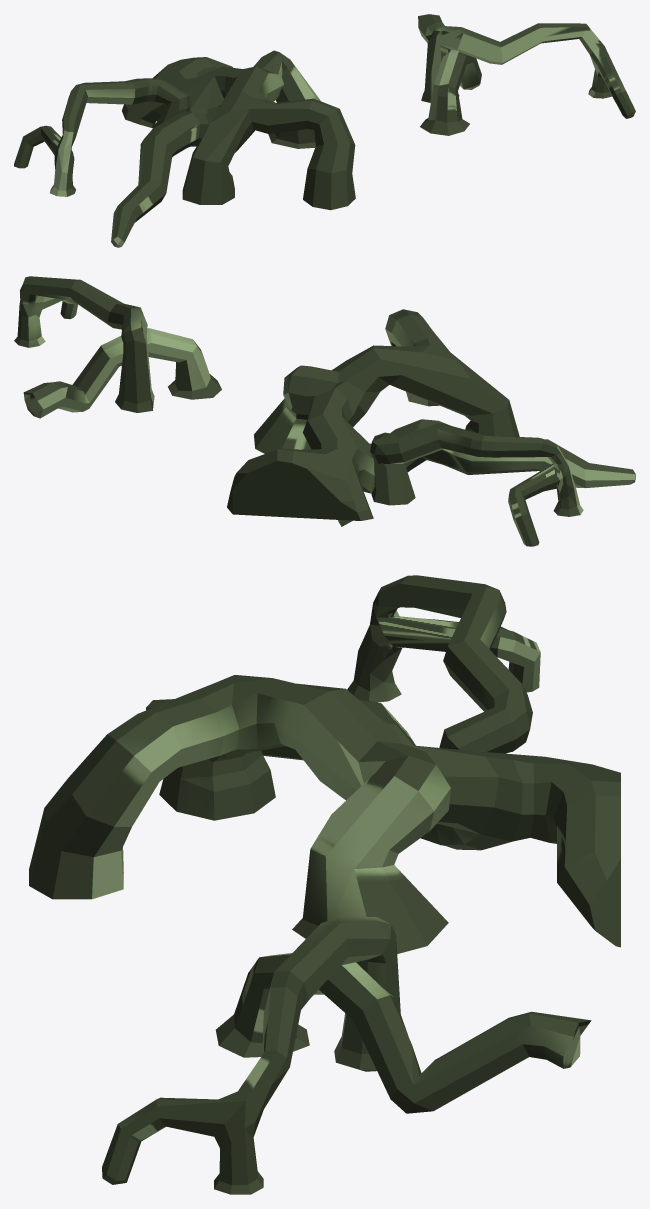
File: EA_Swamp_Root_03b.glb
3 views of the same model, one above another, from view 1: azimuth 30°, elevation 25°; view 2: azimuth 150°, elevation 25°; view 3: azimuth 270°, elevation 25° (orthographic). The views are drawn at different scales.
Parts seen in each view (by area): view 1: EA_Swamp_Root_03b; view 2: EA_Swamp_Root_03b; view 3: EA_Swamp_Root_03b.
Boxes of the visible parts, x1,y1,x2,y2 form: EA_Swamp_Root_03b: [14, 14, 635, 247]; EA_Swamp_Root_03b: [14, 276, 635, 546]; EA_Swamp_Root_03b: [29, 575, 620, 1194].
Bounding box in the file's own units: 4.86 × 0.9326 × 2.36.
Materials: 1 (1 with a texture image).
